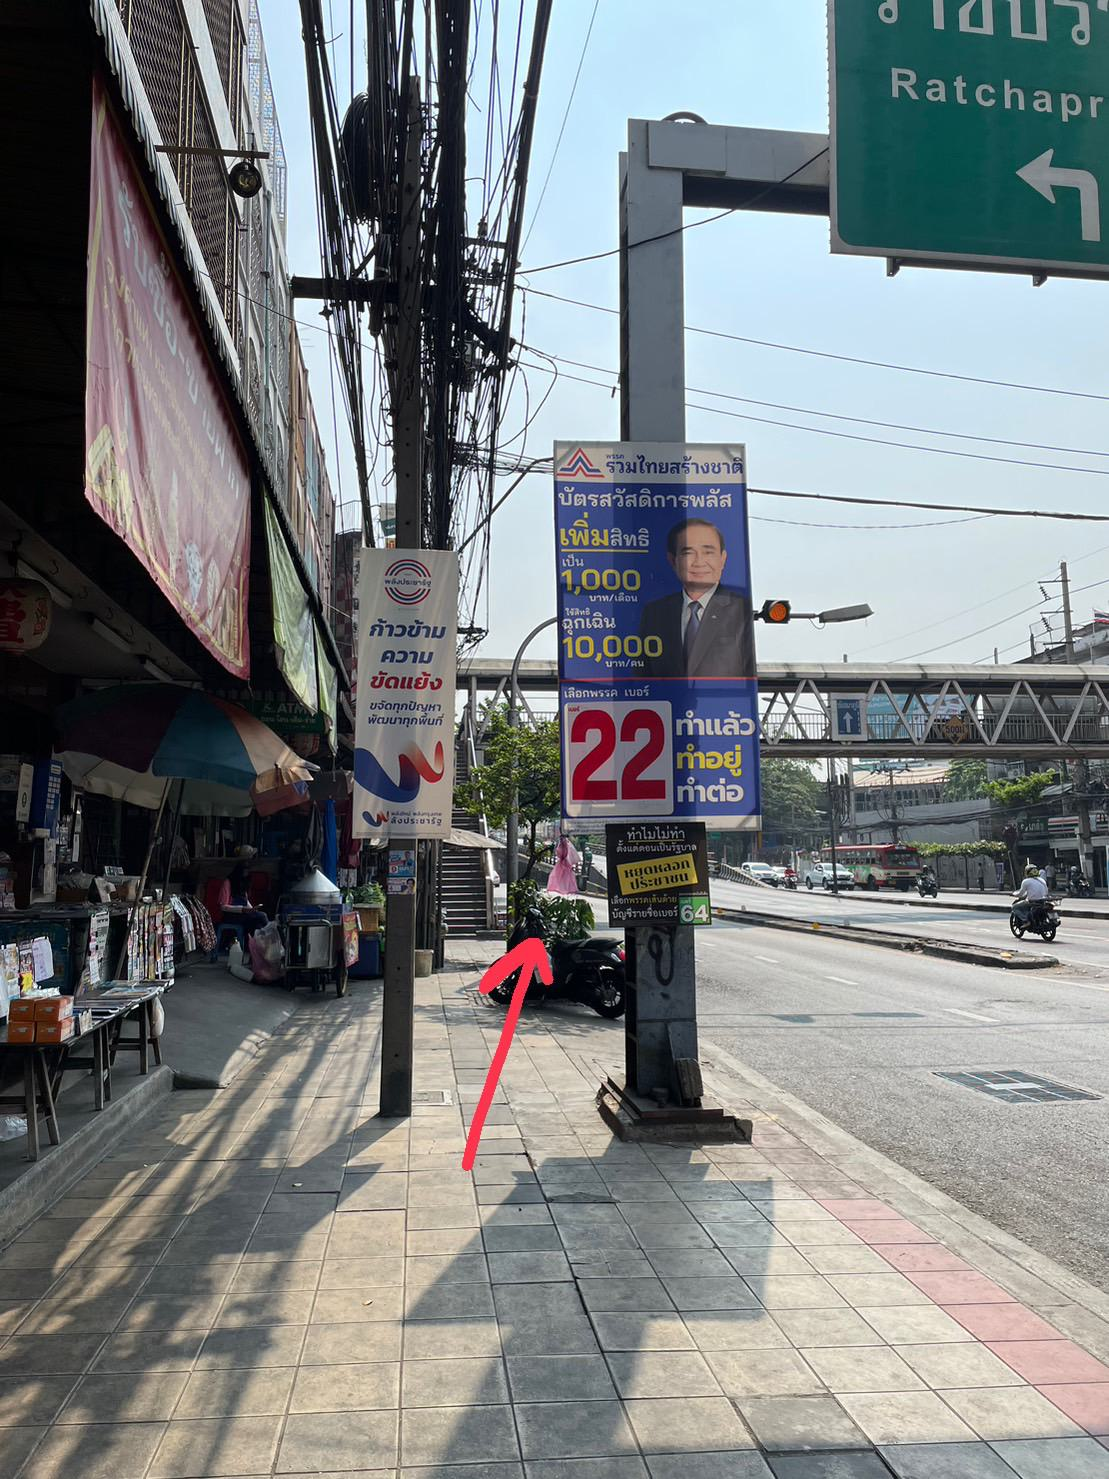Banner: (543, 430, 769, 837), (349, 545, 472, 847)
